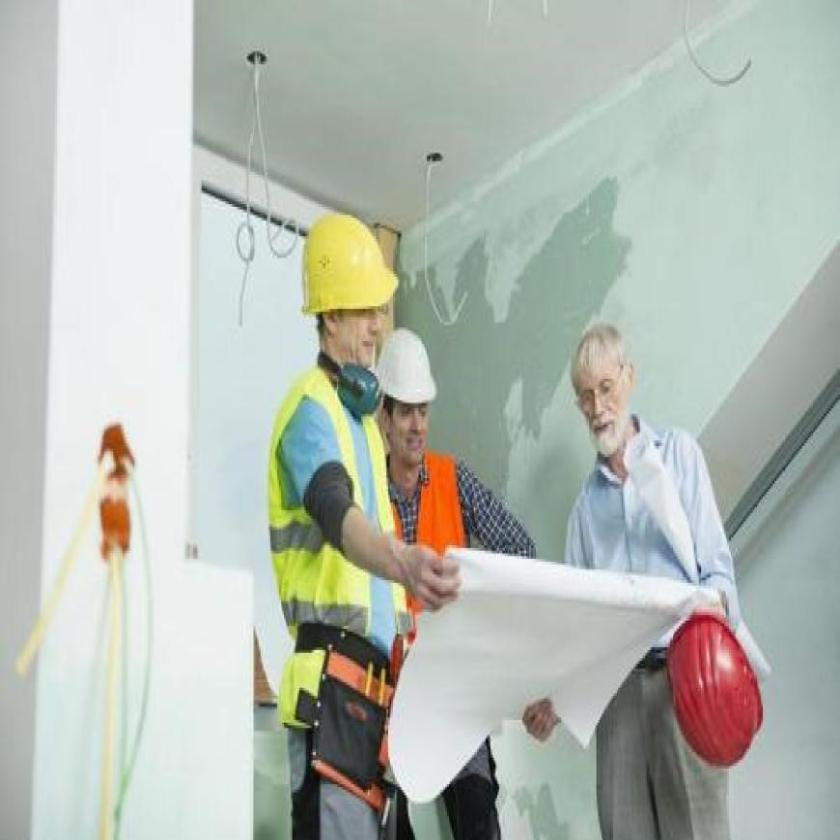Con_casco: (297, 208, 392, 392), (372, 316, 438, 466)
Sin_casco: (566, 318, 636, 463)
